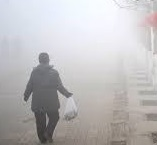person: (23, 52, 72, 145)
